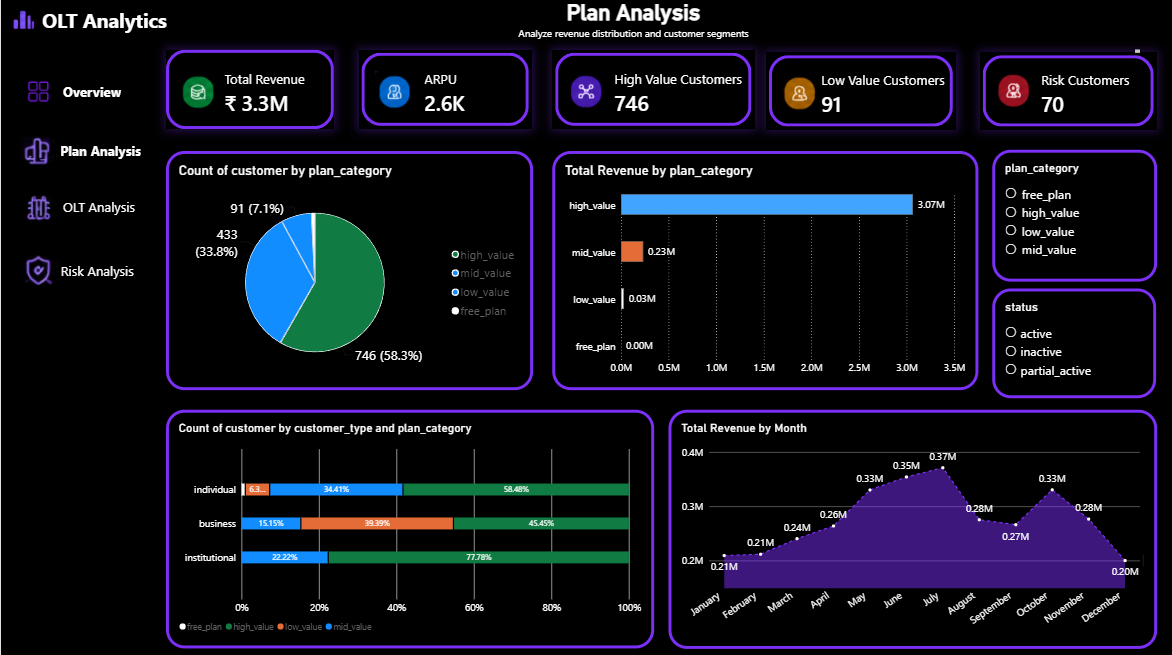

The page's visual inventory and layout, read from the dashboard file:
{"tool":"powerbi","page":{"name":"Plan Analysis","canvas":[1920,1080],"ordinal":1},"visuals":[{"type":"shape","box":[0,1.8,269.4,1079.7],"z":0},{"type":"image","box":[8.6,0,51.3,74.8],"z":1000},{"type":"actionButton","box":[0,106.9,207.4,98.4],"z":2000},{"type":"actionButton","box":[0,201,239.5,100.5],"z":3000},{"type":"actionButton","box":[15,301.5,290.2,86.4],"z":4000},{"type":"actionButton","box":[17.1,406.2,211.7,81.2],"z":5000},{"type":"cardVisual","fields":{"Data":["OLT.Risk Customers"]},"box":[1590.4,91.9,288.2,126.1],"z":6000},{"type":"cardVisual","fields":{"Data":["OLT.Total Revenue"]},"box":[268.4,88.3,273.8,129.7],"z":7000},{"type":"cardVisual","fields":{"Data":["OLT.ARPU"]},"box":[581.8,88.3,282.8,129.7],"z":8000},{"type":"cardVisual","fields":{"Data":["OLT.High Value Customers"]},"box":[897,88.3,329.6,129.7],"z":9000},{"type":"cardVisual","fields":{"Data":["OLT.Low Value Customers"]},"box":[1242.8,91.9,309.8,126.1],"z":10000},{"type":"pieChart","fields":{"Category":["OLT.plan_category"],"Y":["CountNonNull(OLT.customer)"]},"box":[268.4,252.2,596.5,389.1],"z":11000},{"type":"clusteredBarChart","fields":{"Category":["OLT.plan_category"],"Y":["OLT.Total Revenue"]},"box":[897,252.2,692.7,389.1],"z":12000},{"type":"hundredPercentStackedBarChart","fields":{"Category":["OLT.customer_type"],"Series":["OLT.plan_category"],"Y":["CountNonNull(OLT.customer)"]},"box":[268.4,671.8,793.8,388.4],"z":13000},{"type":"lineChart","fields":{"Category":["OLT.activation date.Variation.Date Hierarchy.Month"],"Y":["OLT.Total Revenue"]},"box":[1086.1,671.8,794.3,389],"z":14000},{"type":"listSlicer","fields":{"Values":["OLT.plan_category"]},"box":[1612,250.4,268.4,214.3],"z":15000},{"type":"listSlicer","fields":{"Values":["OLT.status"]},"box":[1612,475.5,266.6,178.3],"z":16000},{"type":"textbox","title":"Plan Analysis","box":[205.3,5.4,1646.2,86.5],"z":17000}]}

Visuals, with their boxes on the page's 1920x1080 design canvas (x1, y1, x2, y2). These are canvas units, not pixel positions in the 1172x655 screenshot, which may show the page scaled, cropped or inside an application window:
shape: (x1=0, y1=2, x2=269, y2=1082)
image: (x1=9, y1=0, x2=60, y2=75)
actionButton: (x1=0, y1=107, x2=207, y2=205)
actionButton: (x1=0, y1=201, x2=240, y2=302)
actionButton: (x1=15, y1=302, x2=305, y2=388)
actionButton: (x1=17, y1=406, x2=229, y2=487)
cardVisual - OLT.Risk Customers: (x1=1590, y1=92, x2=1879, y2=218)
cardVisual - OLT.Total Revenue: (x1=268, y1=88, x2=542, y2=218)
cardVisual - OLT.ARPU: (x1=582, y1=88, x2=865, y2=218)
cardVisual - OLT.High Value Customers: (x1=897, y1=88, x2=1227, y2=218)
cardVisual - OLT.Low Value Customers: (x1=1243, y1=92, x2=1553, y2=218)
pieChart - OLT.plan_category x CountNonNull(OLT.customer): (x1=268, y1=252, x2=865, y2=641)
clusteredBarChart - OLT.plan_category x OLT.Total Revenue: (x1=897, y1=252, x2=1590, y2=641)
hundredPercentStackedBarChart - OLT.customer_type x OLT.plan_category: (x1=268, y1=672, x2=1062, y2=1060)
lineChart - OLT.activation date.Variation.Date Hierarchy.Month x OLT.Total Revenue: (x1=1086, y1=672, x2=1880, y2=1061)
listSlicer - OLT.plan_category: (x1=1612, y1=250, x2=1880, y2=465)
listSlicer - OLT.status: (x1=1612, y1=476, x2=1879, y2=654)
"Plan Analysis" textbox: (x1=205, y1=5, x2=1852, y2=92)
